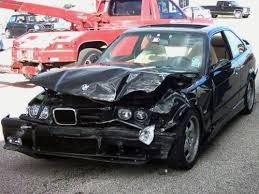Dent: (196, 89, 215, 117)
Smashed: (21, 73, 187, 159)
